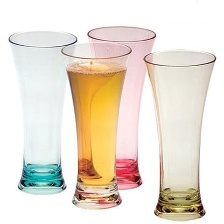glass: (140, 45, 220, 224), (82, 16, 160, 197), (4, 22, 80, 199), (63, 38, 135, 213)
